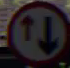Two way: (9, 5, 61, 59)
